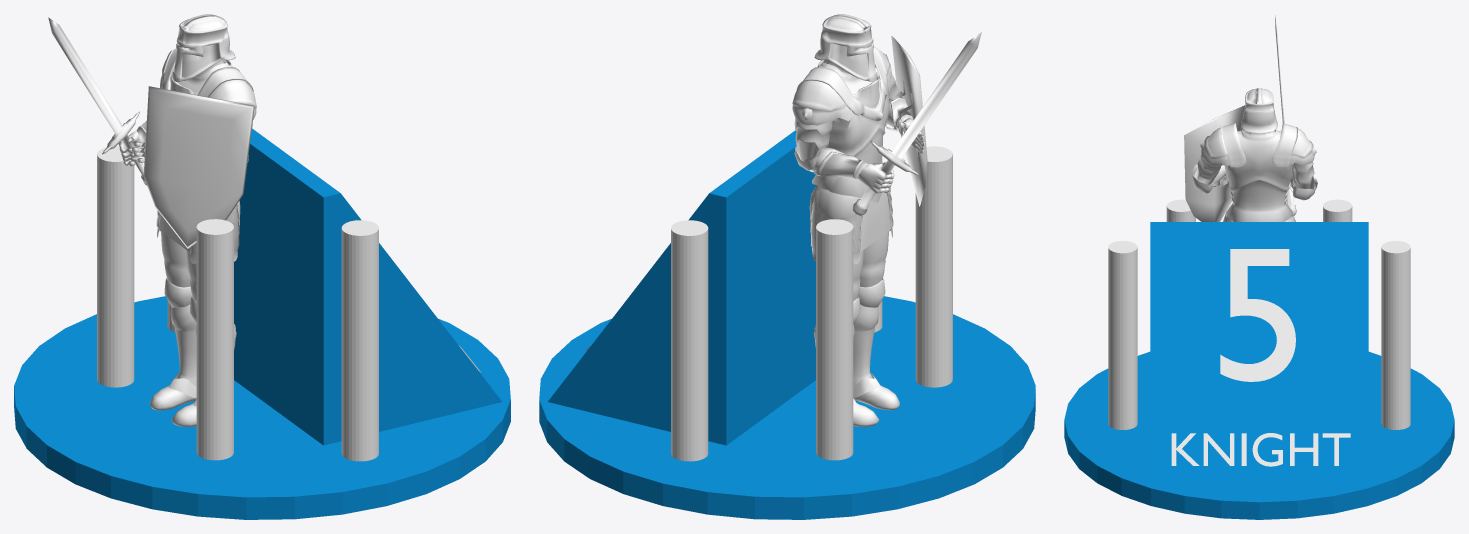
File: TCKnight5.fbx
The picture shows the model from 3 angles, left to right: view 1: azimuth 30°, elevation 25°; view 2: azimuth 150°, elevation 25°; view 3: azimuth 270°, elevation 25°; orthographic projection. The views are drawn at different scales.
Visible parts, largest first — view 1: Knight5; view 2: Knight5; view 3: Knight5.
Boxes of the visible parts, x1=… form: Knight5: x1=14, y1=14, x2=510, y2=519; Knight5: x1=539, y1=14, x2=1035, y2=519; Knight5: x1=1064, y1=15, x2=1454, y2=519.
Size of the model in its own units: 180 by 176 by 180.
